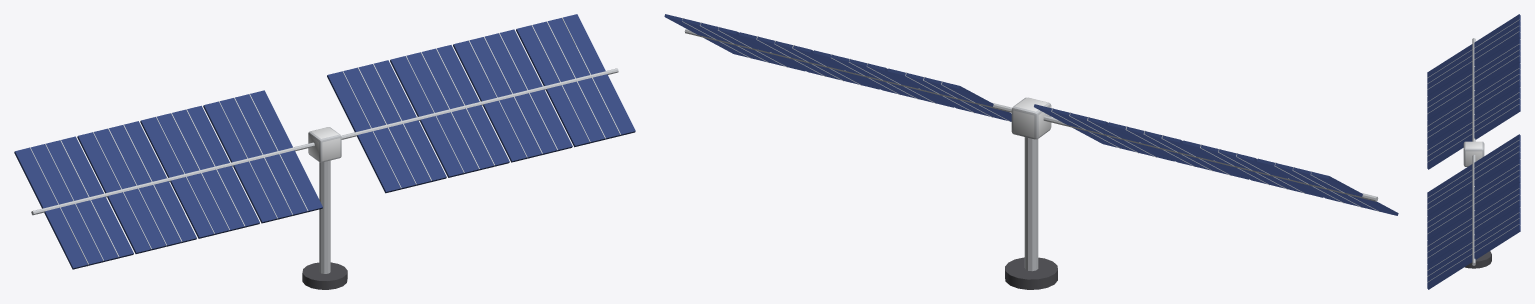
File: SolarArray.fbx
The picture shows the model from 3 angles, left to right: view 1: azimuth 30°, elevation 25°; view 2: azimuth 150°, elevation 25°; view 3: azimuth 270°, elevation 25°; orthographic projection. The views are drawn at different scales.
Visible parts, largest first — view 1: SolarArray; view 2: SolarArray; view 3: SolarArray.
Part boxes in pixels (bbox=[...]): SolarArray: bbox=[14, 14, 635, 289]; SolarArray: bbox=[664, 14, 1398, 289]; SolarArray: bbox=[1427, 14, 1520, 289].
Bounding box in the file's own units: 10.4 × 3.01 × 1.83.
